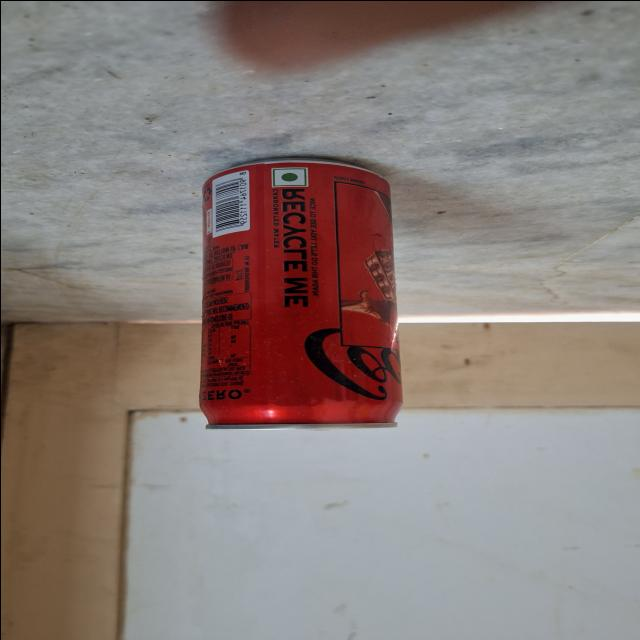Coca Cola Zero: (182, 153, 412, 434)
